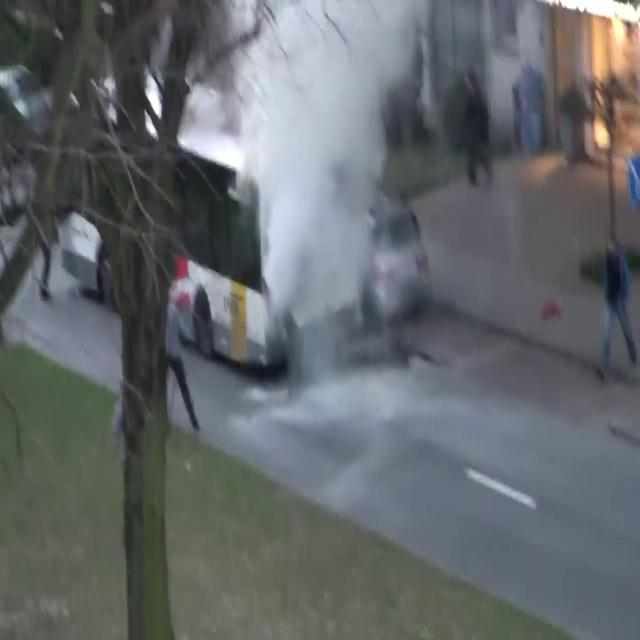Smoke: (223, 0, 434, 426)
